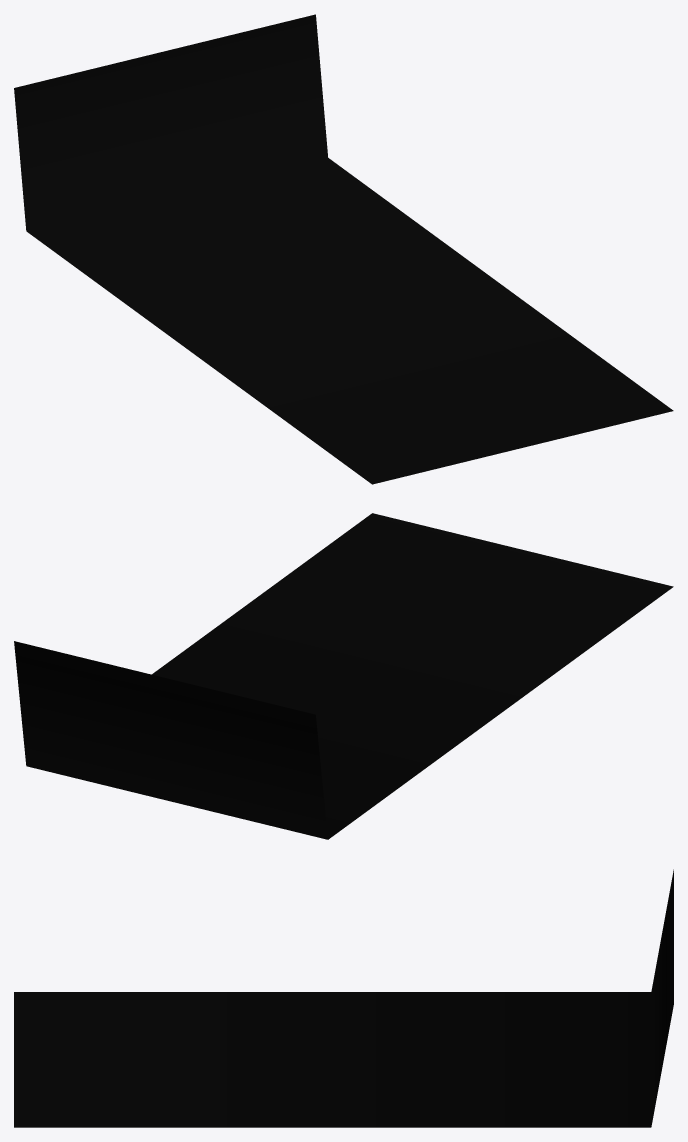
The model's file is effect_dongzhuo_bb_4_scene.FBX.
3 renders of one model, top to bottom at view 1: azimuth 30°, elevation 25°; view 2: azimuth 150°, elevation 25°; view 3: azimuth 270°, elevation 25°, orthographic. The views are drawn at different scales.
Parts seen in each view (by area): view 1: effect_dongzhuo_bb_enemy_4_scene; view 2: effect_dongzhuo_bb_enemy_4_scene; view 3: effect_dongzhuo_bb_enemy_4_scene.
Boxes of the visible parts, x1,y1,x2,y2 form: effect_dongzhuo_bb_enemy_4_scene: (14, 14, 673, 484); effect_dongzhuo_bb_enemy_4_scene: (14, 513, 673, 839); effect_dongzhuo_bb_enemy_4_scene: (14, 869, 673, 1127).
Size of the model in its own units: 793 by 337 by 1630.
1 material, 1 textured.
